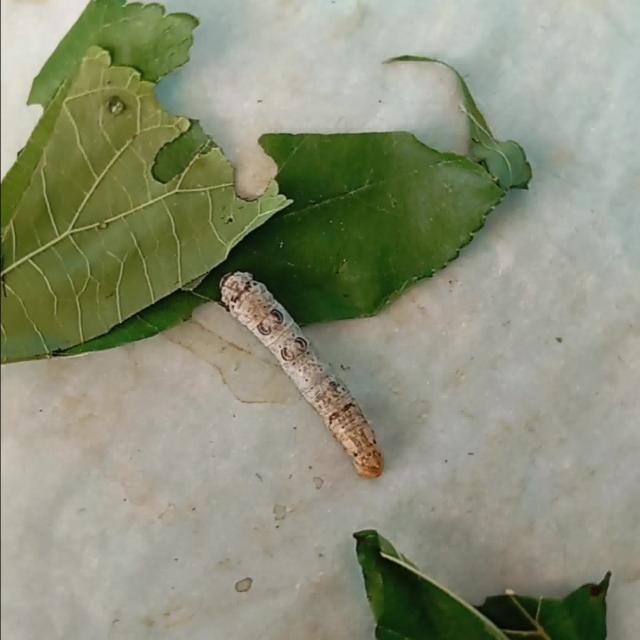Grasserie: (208, 250, 388, 486)
